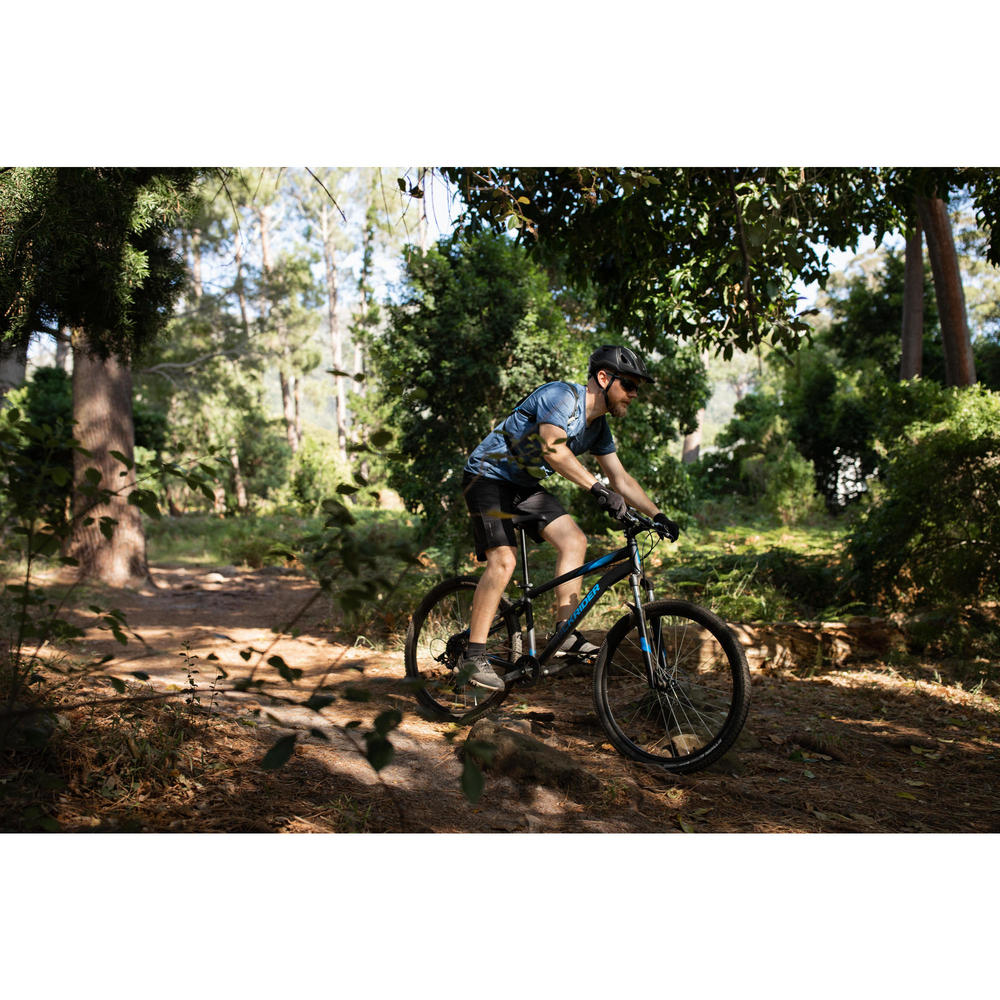MountainBike: (403, 485, 749, 768)
